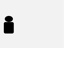human: (1, 14, 15, 34)
